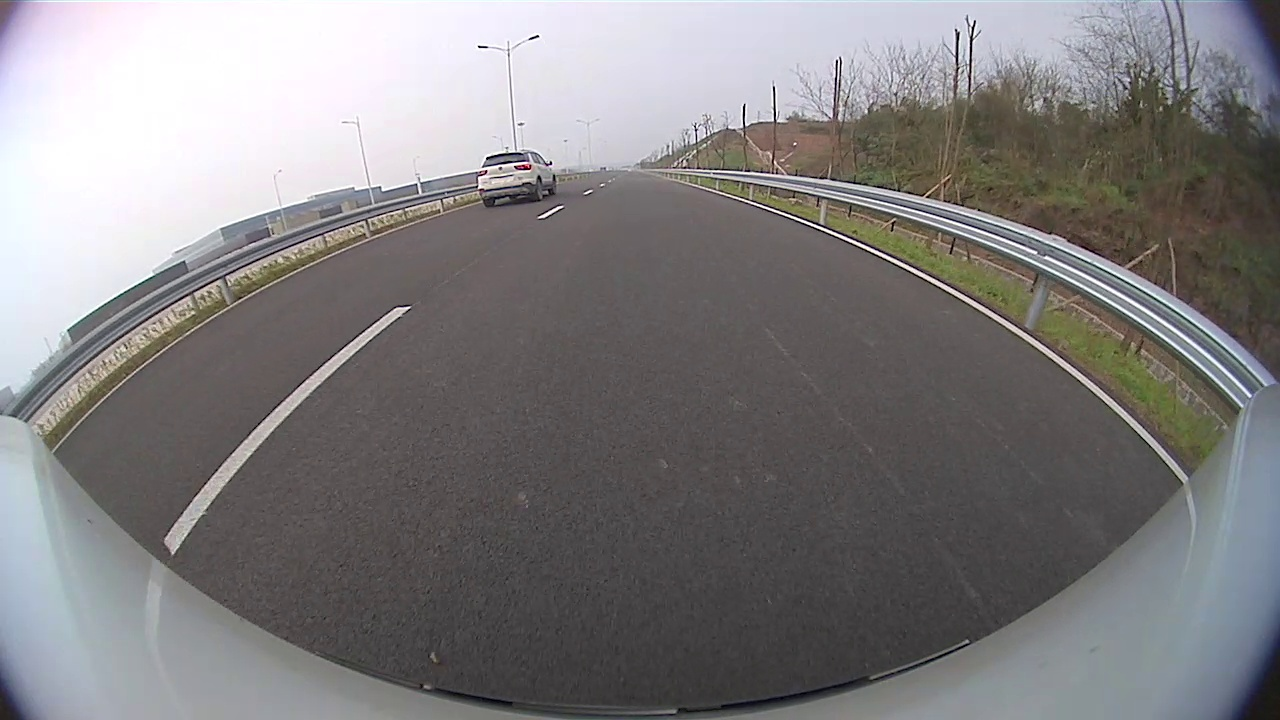car: (476, 149, 558, 208)
front: (549, 178, 558, 195)
rear: (533, 179, 545, 201)
